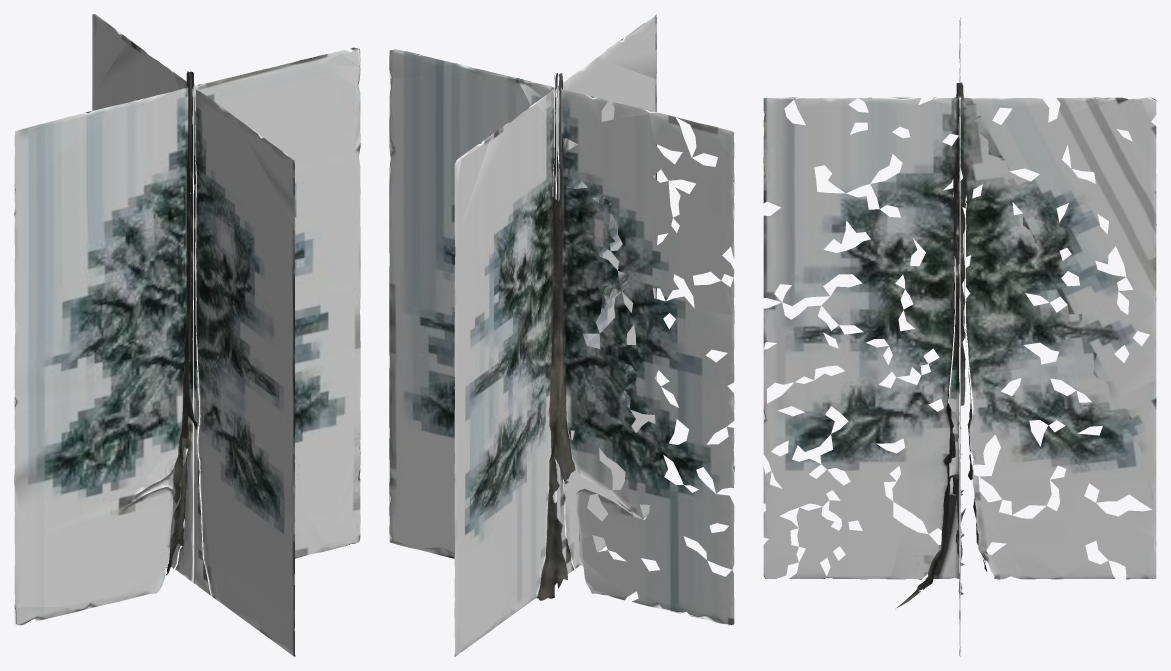
Rendered from abeto_geada_morta.glb.
The picture shows the model from 3 angles, left to right: view 1: azimuth 30°, elevation 25°; view 2: azimuth 150°, elevation 25°; view 3: azimuth 270°, elevation 25°; orthographic projection. The views are drawn at different scales.
Visible parts, largest first — view 1: geometry_0.004; view 2: geometry_0.004; view 3: geometry_0.004.
Boxes of the visible parts, bbox=[...] form: geometry_0.004: bbox=[14, 14, 360, 656]; geometry_0.004: bbox=[389, 14, 734, 656]; geometry_0.004: bbox=[763, 17, 1156, 656].
Size of the model in its own units: 0.6896 by 0.9957 by 0.6995.
Materials: 1 (1 with a texture image).
